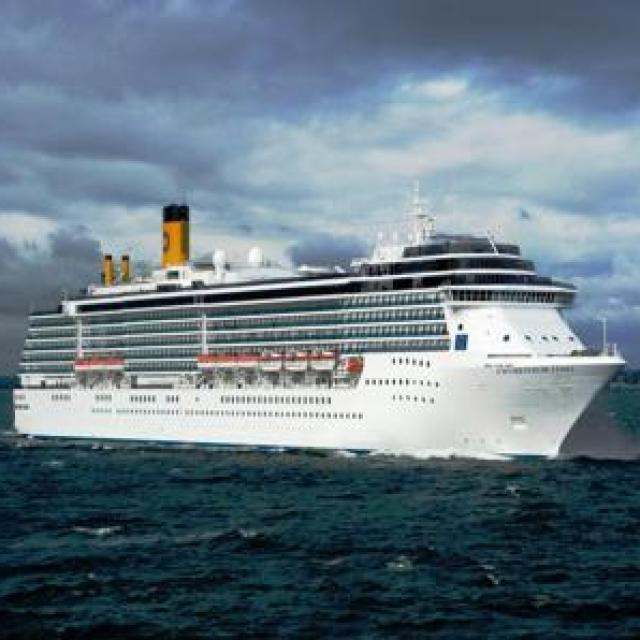passenger ship: (17, 180, 624, 458)
